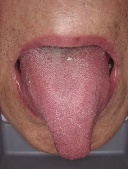tongue: (20, 53, 110, 162)
